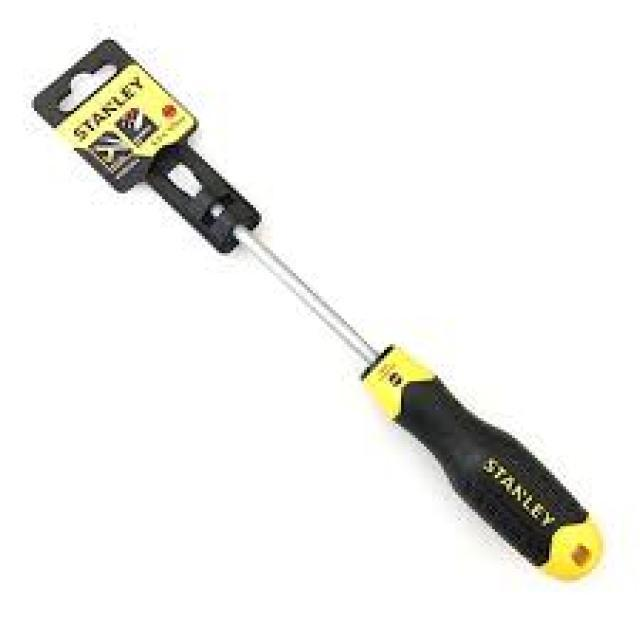screwdriver: (151, 150, 606, 584)
